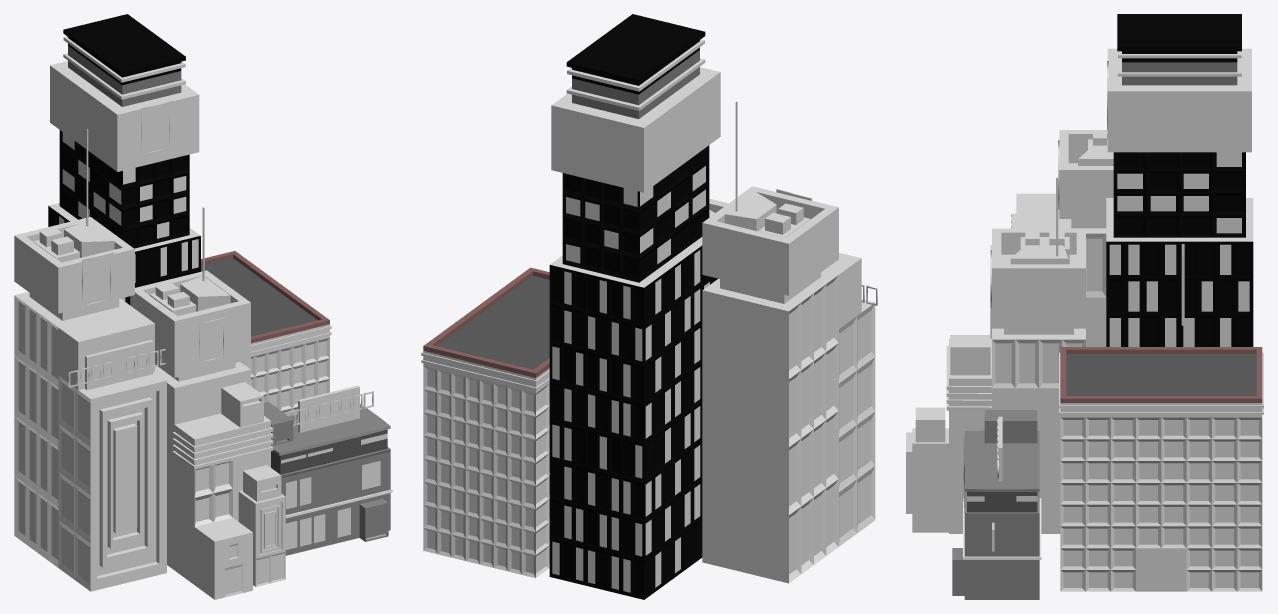
Rendered from Cyberpunk Block.fbx.
3 views of the same model, side by side, from view 1: azimuth 30°, elevation 25°; view 2: azimuth 150°, elevation 25°; view 3: azimuth 270°, elevation 25° (orthographic). The views are drawn at different scales.
Parts seen in each view (by area): view 1: Plane.009, Plane.007, Plane.006, Plane.003, Plane.005, Plane.002, Text.003, Text.002, Text.004, Text, Text.001; view 2: Plane.007, Plane.009, Plane.002; view 3: Plane.002, Plane.007, Plane.005, Plane.003, Plane.006, Plane.009.
Part boxes in pixels (bbox=[...]): Plane.009: bbox=[14, 129, 166, 591]; Plane.007: bbox=[48, 14, 200, 304]; Plane.006: bbox=[172, 382, 285, 599]; Plane.003: bbox=[264, 385, 392, 555]; Plane.005: bbox=[130, 207, 269, 570]; Plane.002: bbox=[201, 251, 331, 416]; Text.003: bbox=[68, 348, 165, 387]; Text.002: bbox=[141, 100, 173, 158]; Text.004: bbox=[82, 252, 114, 309]; Text: bbox=[285, 391, 373, 425]; Text.001: bbox=[199, 317, 226, 365]; Plane.007: bbox=[549, 14, 720, 599]; Plane.009: bbox=[702, 101, 875, 583]; Plane.002: bbox=[421, 267, 549, 578]; Plane.002: bbox=[1059, 347, 1263, 591]; Plane.007: bbox=[1106, 14, 1253, 346]; Plane.005: bbox=[949, 177, 1085, 533]; Plane.003: bbox=[952, 410, 1041, 599]; Plane.006: bbox=[906, 335, 991, 533]; Plane.009: bbox=[990, 130, 1113, 346].
Size of the model in its own units: 624 by 871 by 584.
